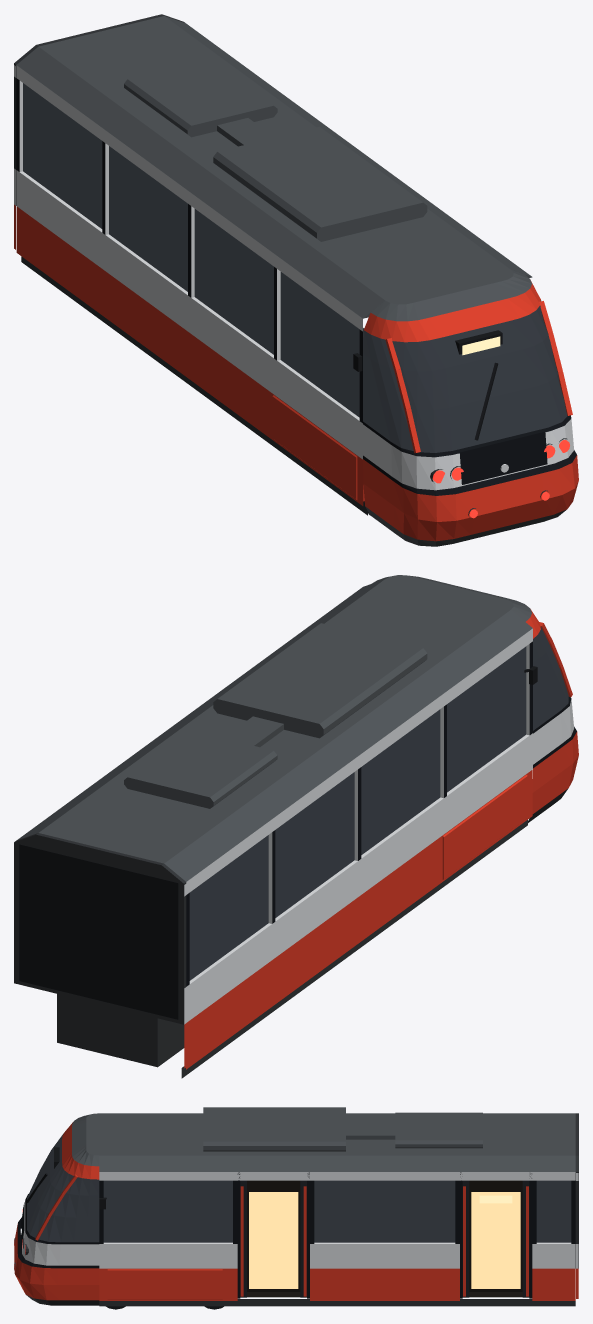
The model's file is 15t-c-open.glb.
3 views of the same model, one above another, from view 1: azimuth 30°, elevation 25°; view 2: azimuth 150°, elevation 25°; view 3: azimuth 270°, elevation 25° (orthographic). The views are drawn at different scales.
Visible parts, largest first — view 1: 15t-c-open; view 2: 15t-c-open; view 3: 15t-c-open.
Part boxes in pixels (x1,y1,x2,y2): 15t-c-open: [14, 14, 578, 546]; 15t-c-open: [14, 575, 578, 1078]; 15t-c-open: [14, 1107, 578, 1309].
Bounding box in the file's own units: 2.6 × 3.28 × 10.31.
